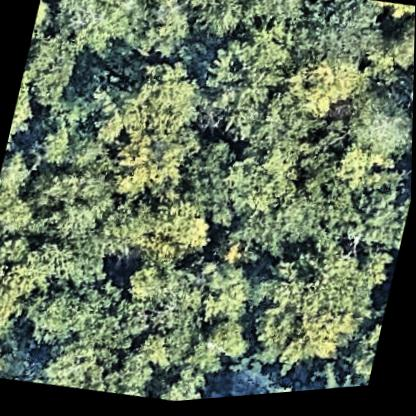tree-top: (240, 234, 379, 395), (218, 124, 347, 266), (186, 27, 290, 147), (111, 260, 217, 374), (20, 147, 118, 259), (18, 272, 136, 360), (111, 52, 206, 153), (170, 0, 308, 62), (280, 48, 373, 135), (135, 189, 219, 277), (105, 132, 193, 214), (334, 178, 412, 265), (50, 0, 148, 65), (19, 15, 80, 114), (341, 95, 414, 175), (295, 0, 375, 71), (95, 193, 159, 271), (19, 101, 81, 180), (46, 339, 120, 398), (129, 0, 193, 66), (195, 311, 251, 380), (0, 251, 46, 325), (378, 8, 415, 81), (157, 364, 219, 405), (210, 233, 265, 278), (249, 377, 316, 400)
